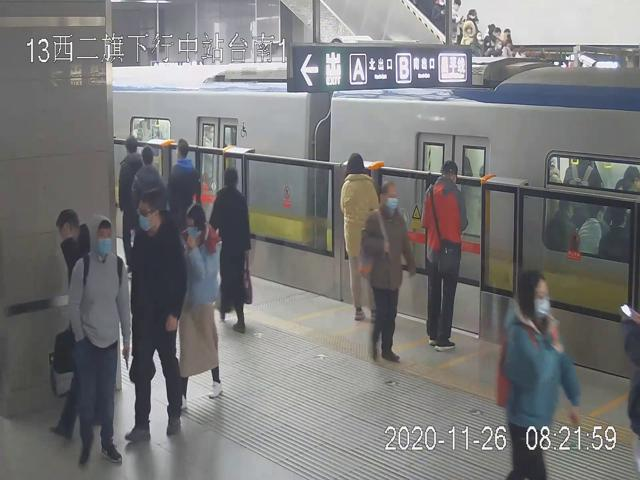person: (67, 213, 131, 468), (126, 188, 186, 440), (178, 200, 222, 412), (420, 159, 466, 351), (369, 180, 411, 360), (341, 151, 381, 321)
